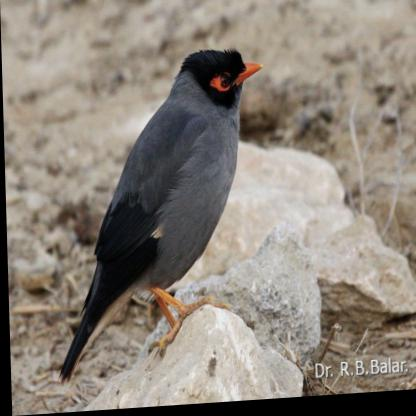Burung: (45, 48, 272, 387)
